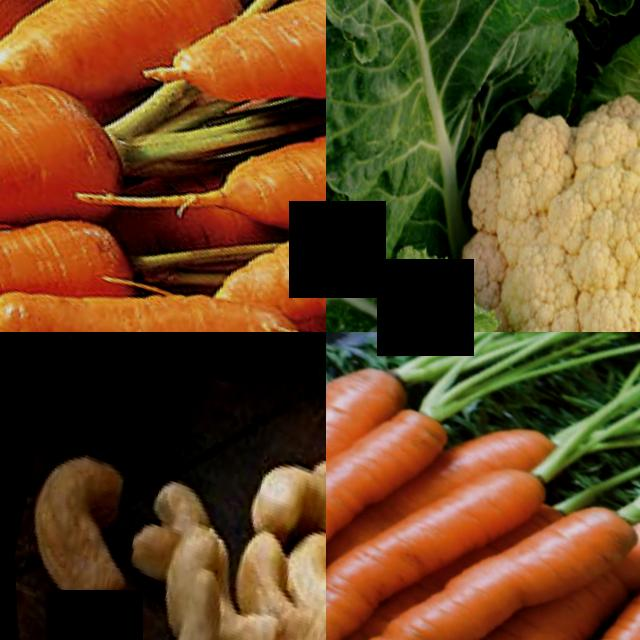carrot: (6, 214, 305, 332), (451, 463, 633, 640), (326, 369, 455, 606), (368, 421, 507, 640), (203, 97, 326, 324), (0, 43, 129, 234), (159, 0, 326, 119), (5, 0, 180, 101), (530, 550, 640, 640), (326, 332, 357, 528)
cashew: (25, 412, 153, 596), (105, 554, 239, 640), (233, 436, 326, 535), (11, 578, 157, 640), (225, 521, 305, 623), (294, 347, 326, 495)
cauliflower: (326, 0, 640, 332)
